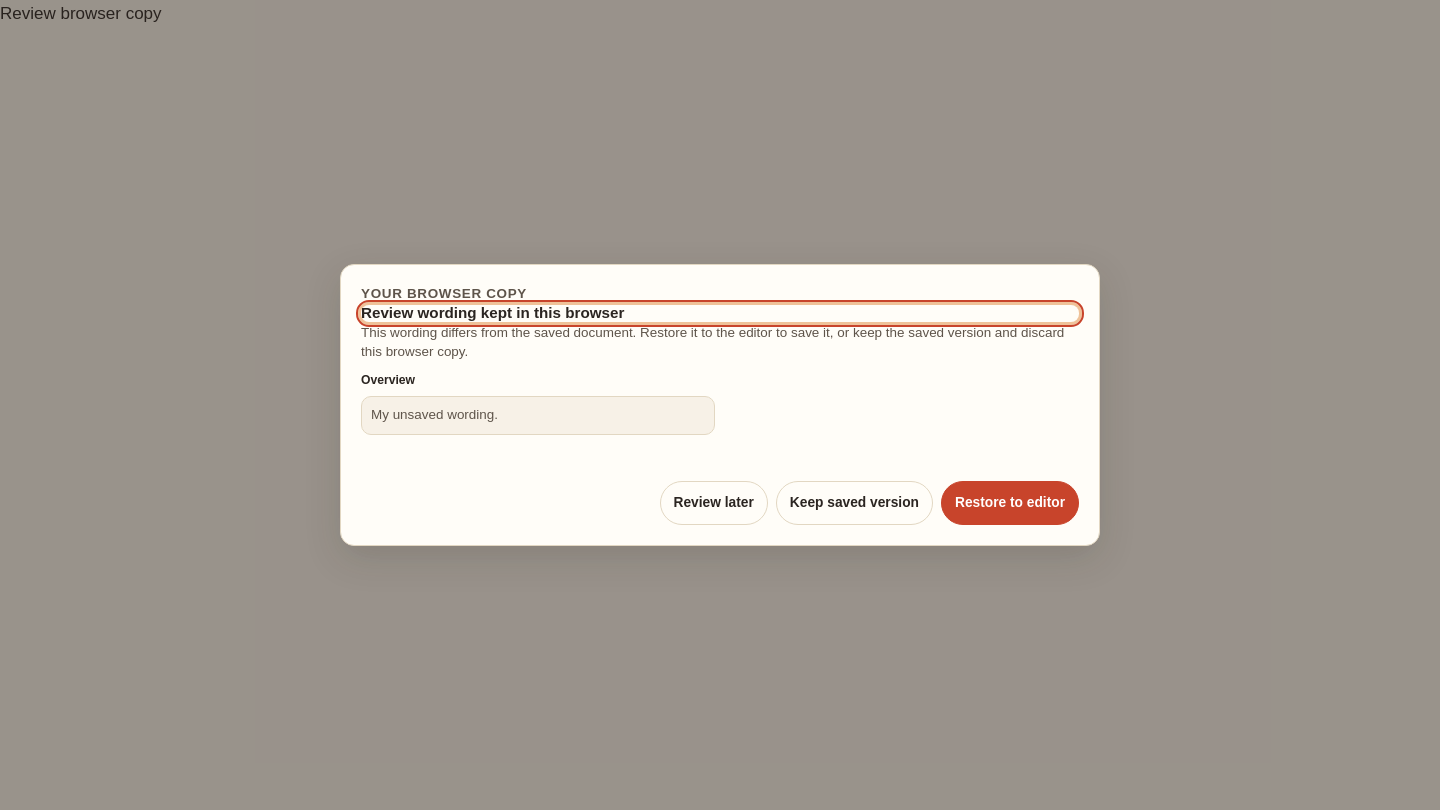
Test: WorkspaceRecoveryReview › retains wording and explains an unconfirmed restore
Click the button "Restore to editor" at (1010, 503), box [941,481,1079,525]
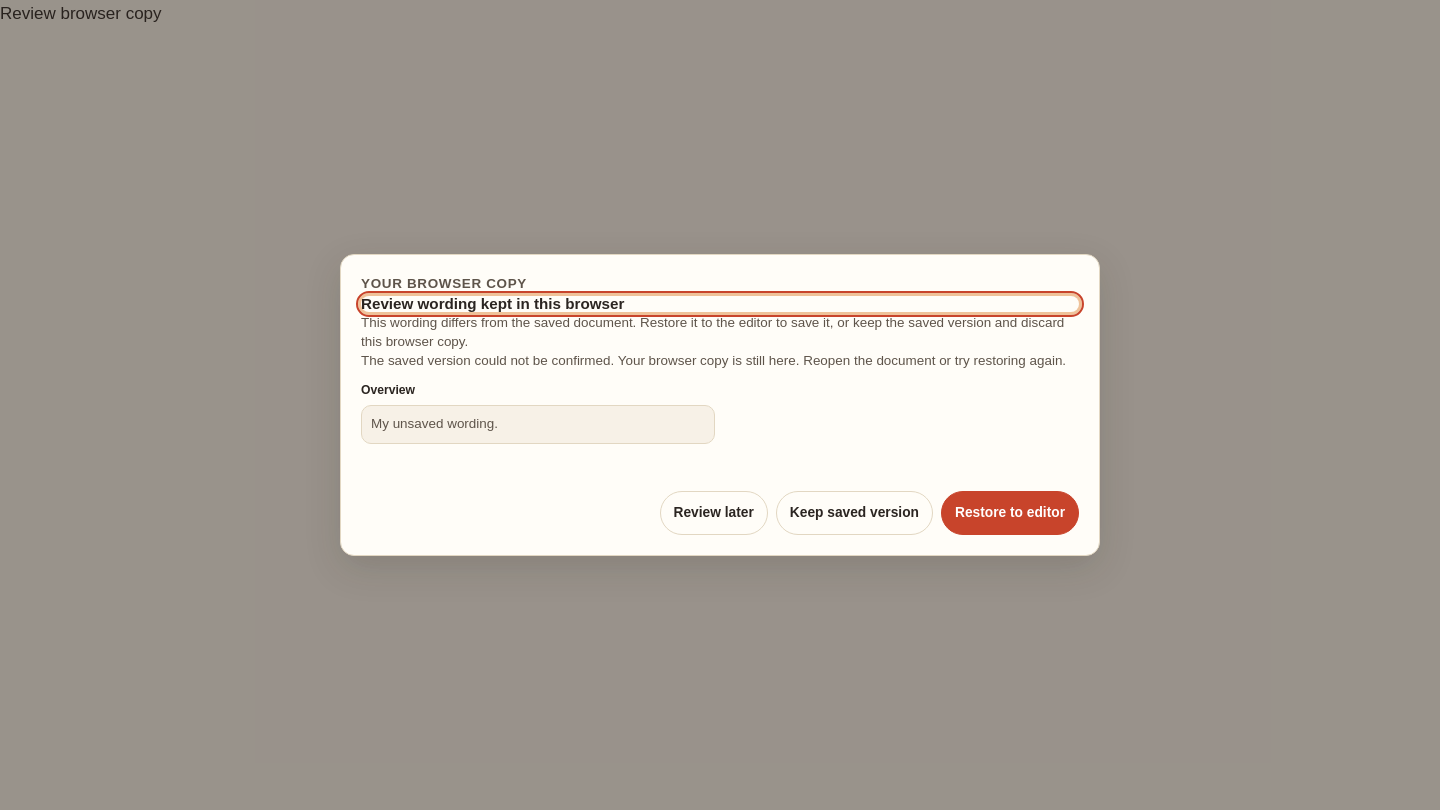
Expected: the dialog is shown, [340,254,1100,556]
Expected: the message shows "saved version could not be confirmed", [361,353,1066,368]
